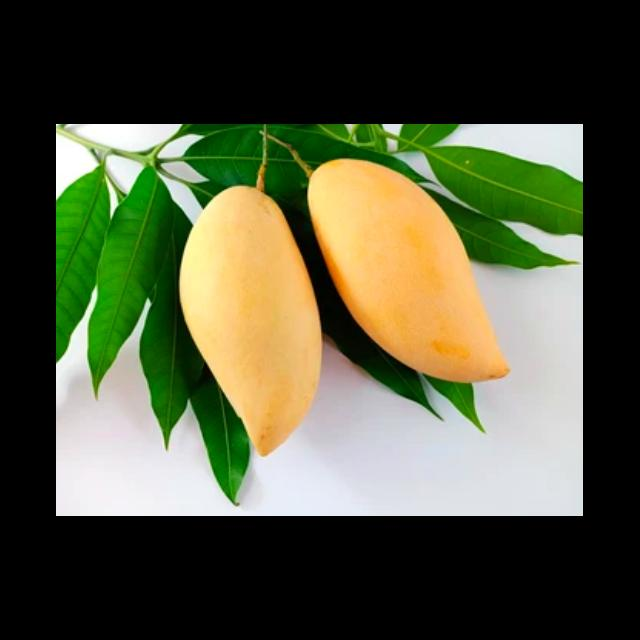mango: (309, 156, 511, 382), (179, 186, 323, 455)
